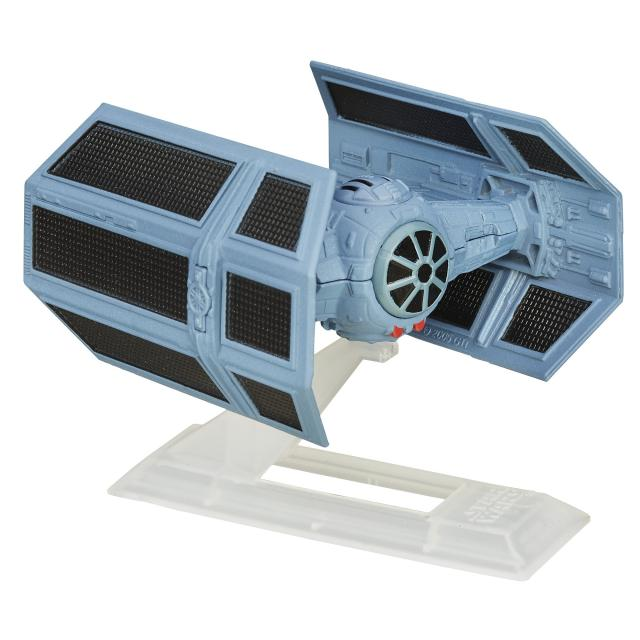tie fighter: (24, 63, 622, 446)
